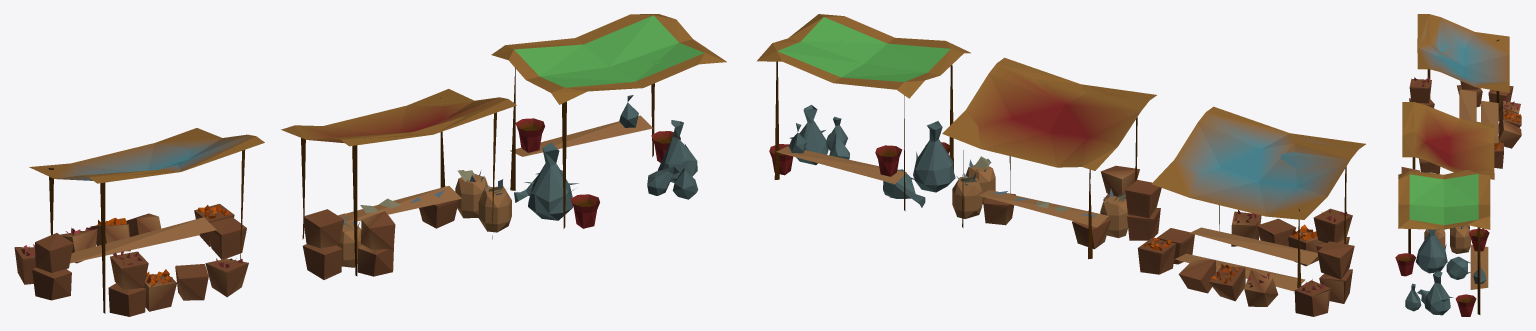
File: market-props.lod0.glb
3 renders of one model, left to right at view 1: azimuth 30°, elevation 25°; view 2: azimuth 150°, elevation 25°; view 3: azimuth 270°, elevation 25°, orthographic. The views are drawn at different scales.
Parts seen in each view (by area): view 1: polySurface433_Green_0; view 2: polySurface433_Green_0; view 3: polySurface433_Green_0.
Part boxes in pixels (x1,y1,x2,y2): polySurface433_Green_0: (14,14,726,316); polySurface433_Green_0: (757,14,1365,316); polySurface433_Green_0: (1395,14,1521,316).
Bounding box in the file's own units: 22.4 × 5.28 × 5.7.
